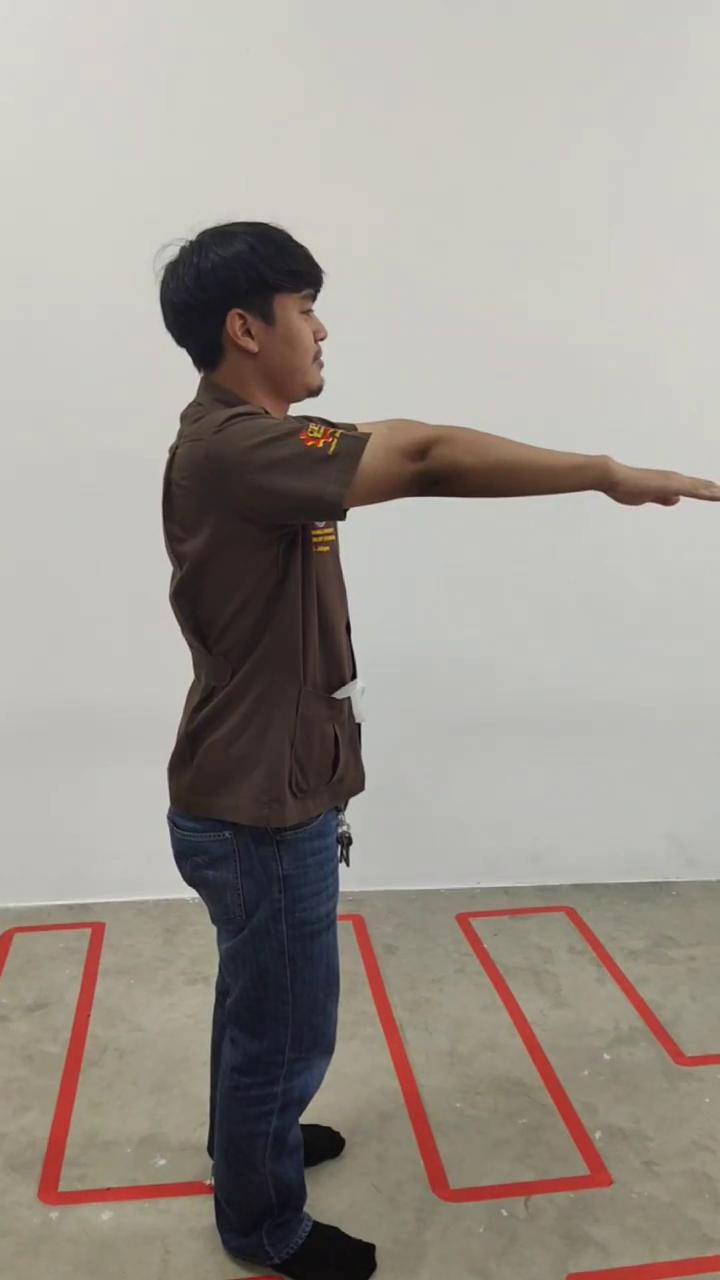squat up: (160, 222, 718, 1280)
